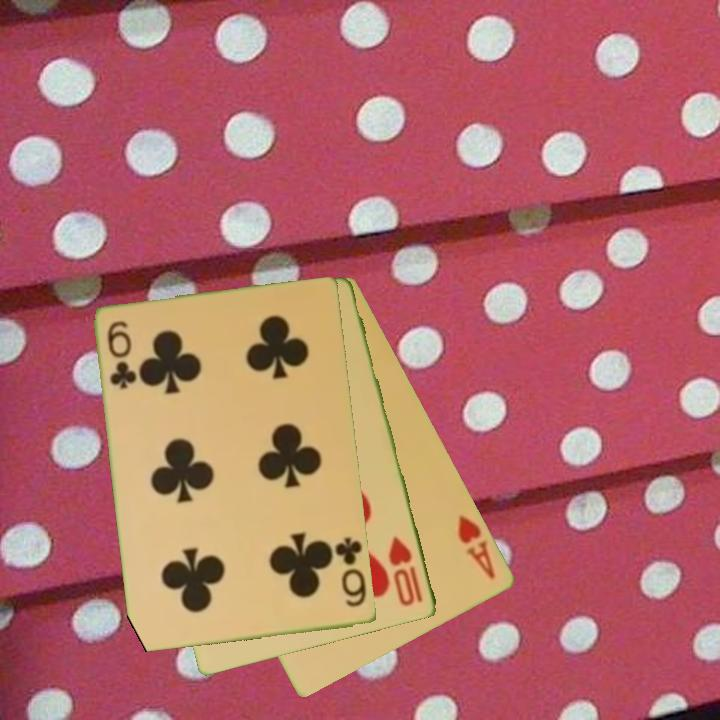10h: (385, 533, 426, 610)
6c: (332, 534, 370, 611), (104, 317, 139, 393)
Ah: (455, 511, 499, 583)
